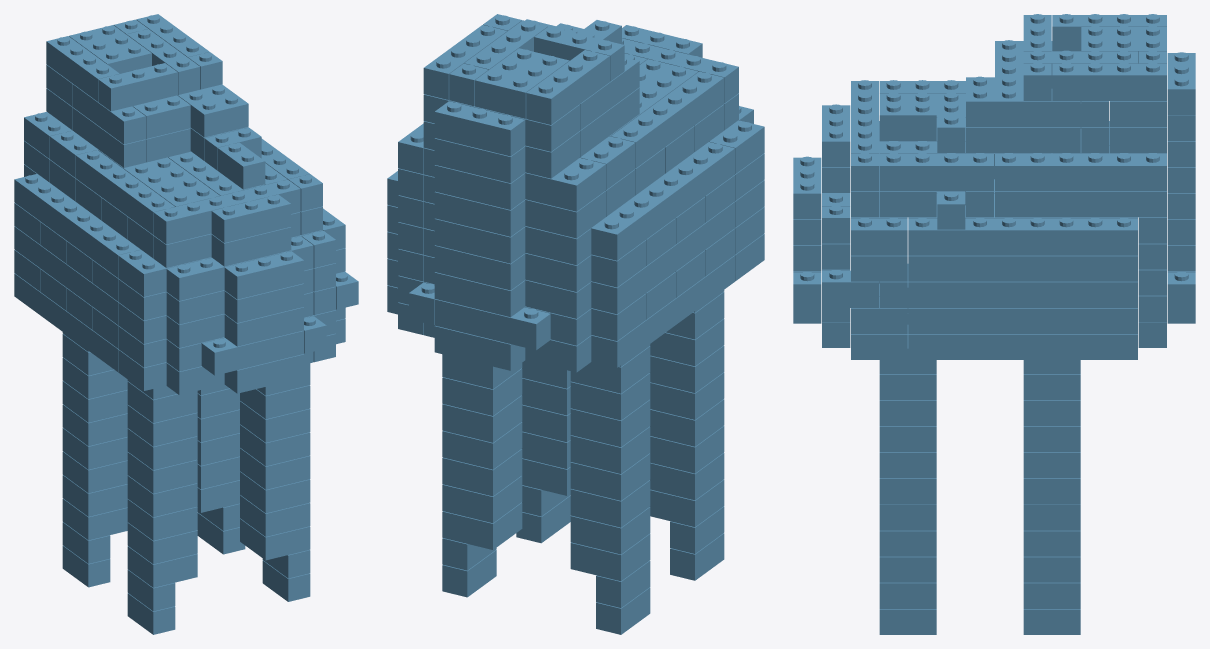
File: 253_vessel_L3.glb
The picture shows the model from 3 angles, left to right: view 1: azimuth 30°, elevation 25°; view 2: azimuth 150°, elevation 25°; view 3: azimuth 270°, elevation 25°; orthographic projection. The views are drawn at different scales.
Size of the model in its own units: 8.98 by 21.13 by 13.98.
